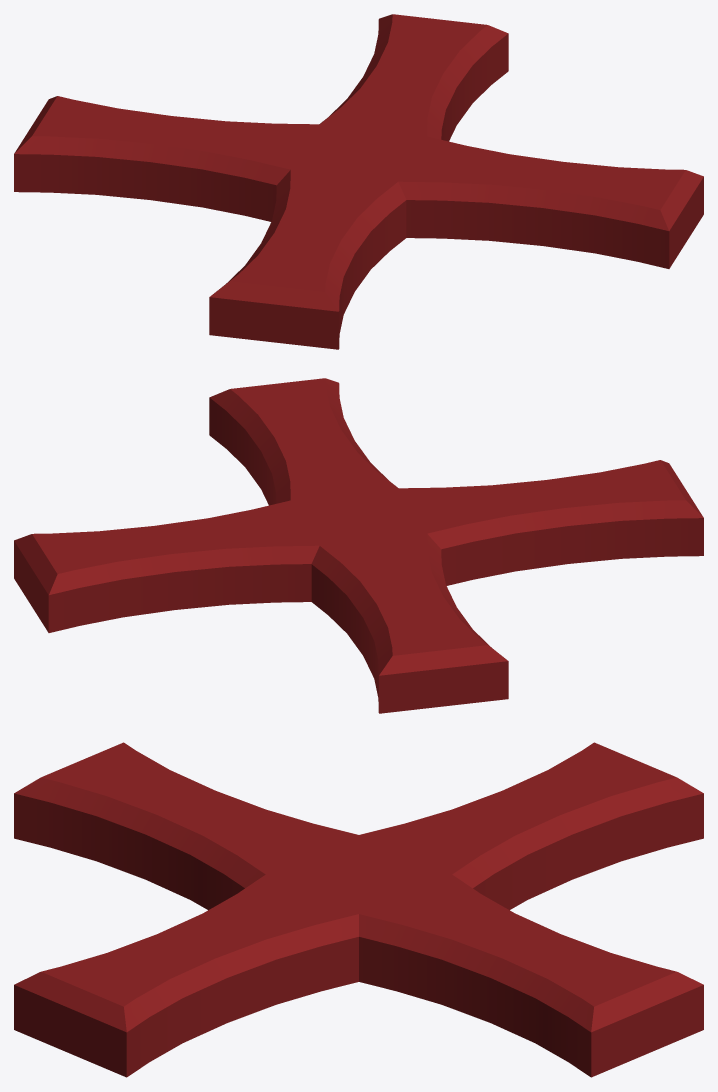
Rendered from quaternius-pirate-kit-ui-red-x.gltf.
The picture shows the model from 3 angles, top to bottom: view 1: azimuth 30°, elevation 25°; view 2: azimuth 150°, elevation 25°; view 3: azimuth 270°, elevation 25°; orthographic projection. The views are drawn at different scales.
Visible parts, largest first — view 1: UI_Red_X; view 2: UI_Red_X; view 3: UI_Red_X.
Part boxes in pixels (bbox=[...]): UI_Red_X: bbox=[14, 14, 703, 349]; UI_Red_X: bbox=[14, 378, 703, 713]; UI_Red_X: bbox=[14, 742, 703, 1077].
Size of the model in its own units: 1.1 by 0.1064 by 1.11.
1 material, 1 textured.
